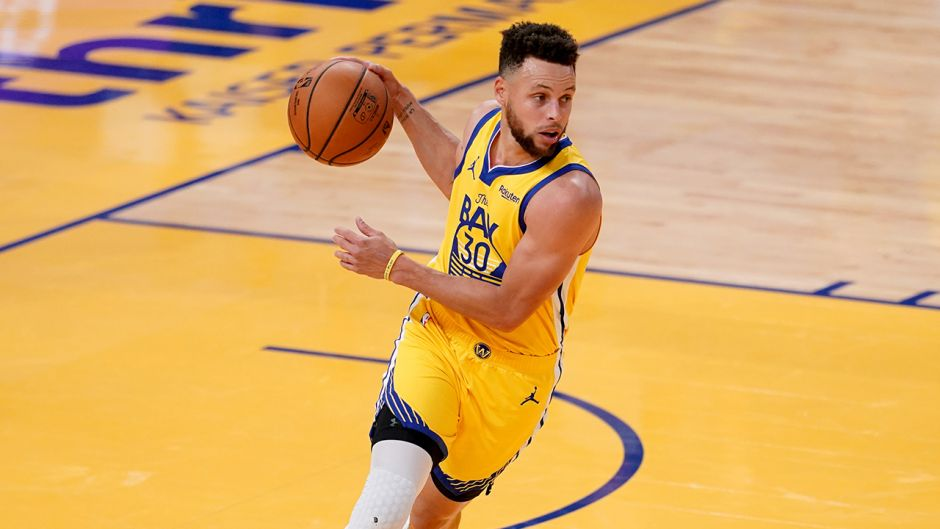ball: (287, 57, 395, 169)
